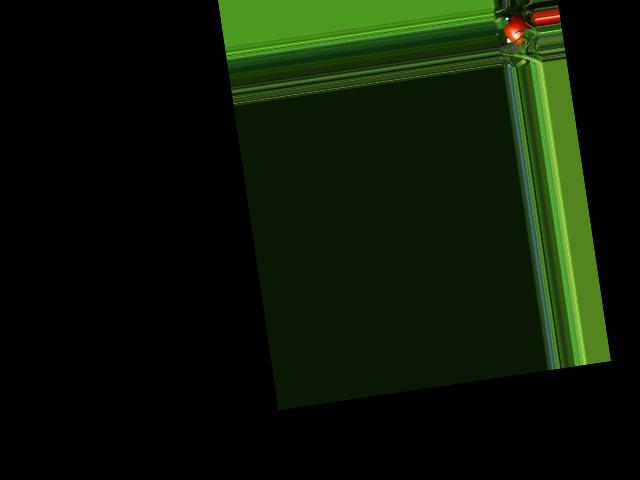tomato: (502, 13, 532, 46)
